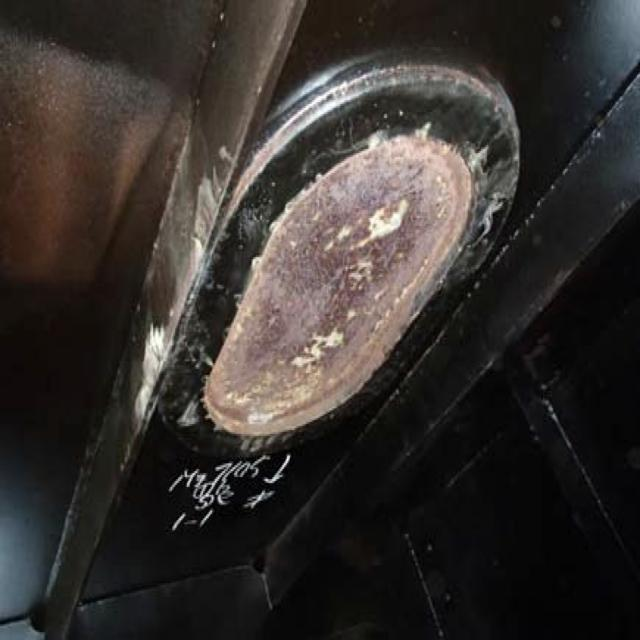corrosion: (205, 129, 494, 460)
